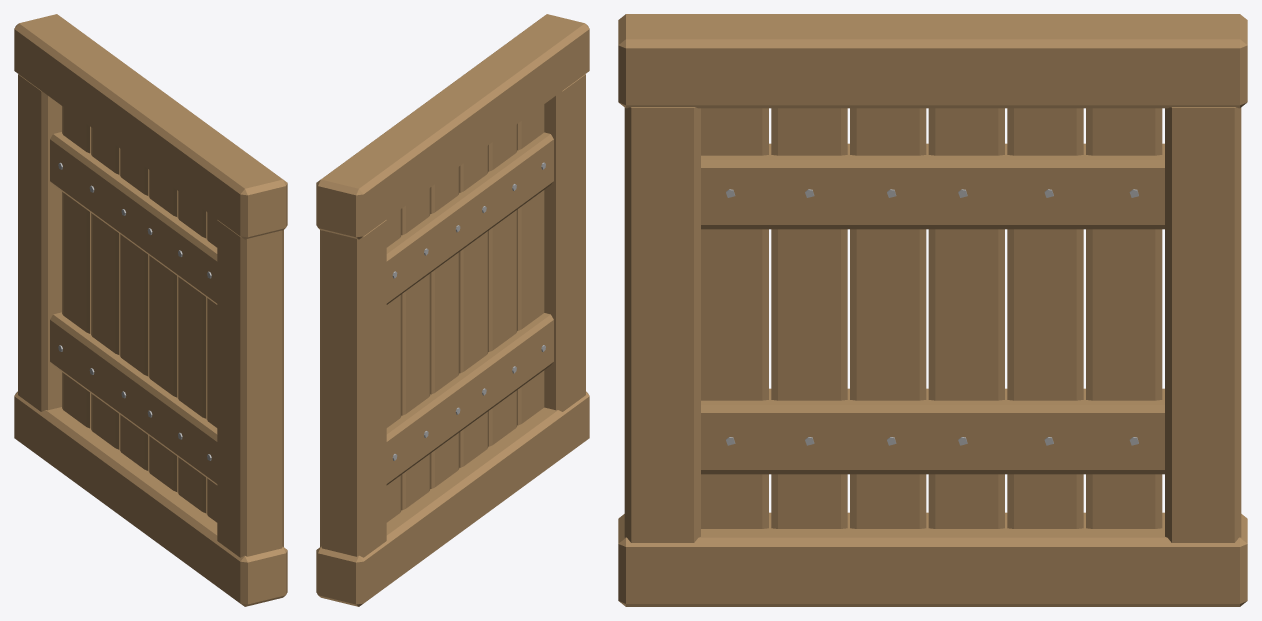
The model's file is WoodenWall_1.fbx.
The picture shows the model from 3 angles, left to right: view 1: azimuth 30°, elevation 25°; view 2: azimuth 150°, elevation 25°; view 3: azimuth 270°, elevation 25°; orthographic projection. The views are drawn at different scales.
Visible parts, largest first — view 1: WallWooden; view 2: WallWooden; view 3: WallWooden.
Boxes of the visible parts, <box> form: WallWooden: <box>14,14,287,606</box>; WallWooden: <box>316,14,589,606</box>; WallWooden: <box>618,14,1247,606</box>.
Bounding box in the file's own units: 0.2753 × 2.32 × 2.33.
